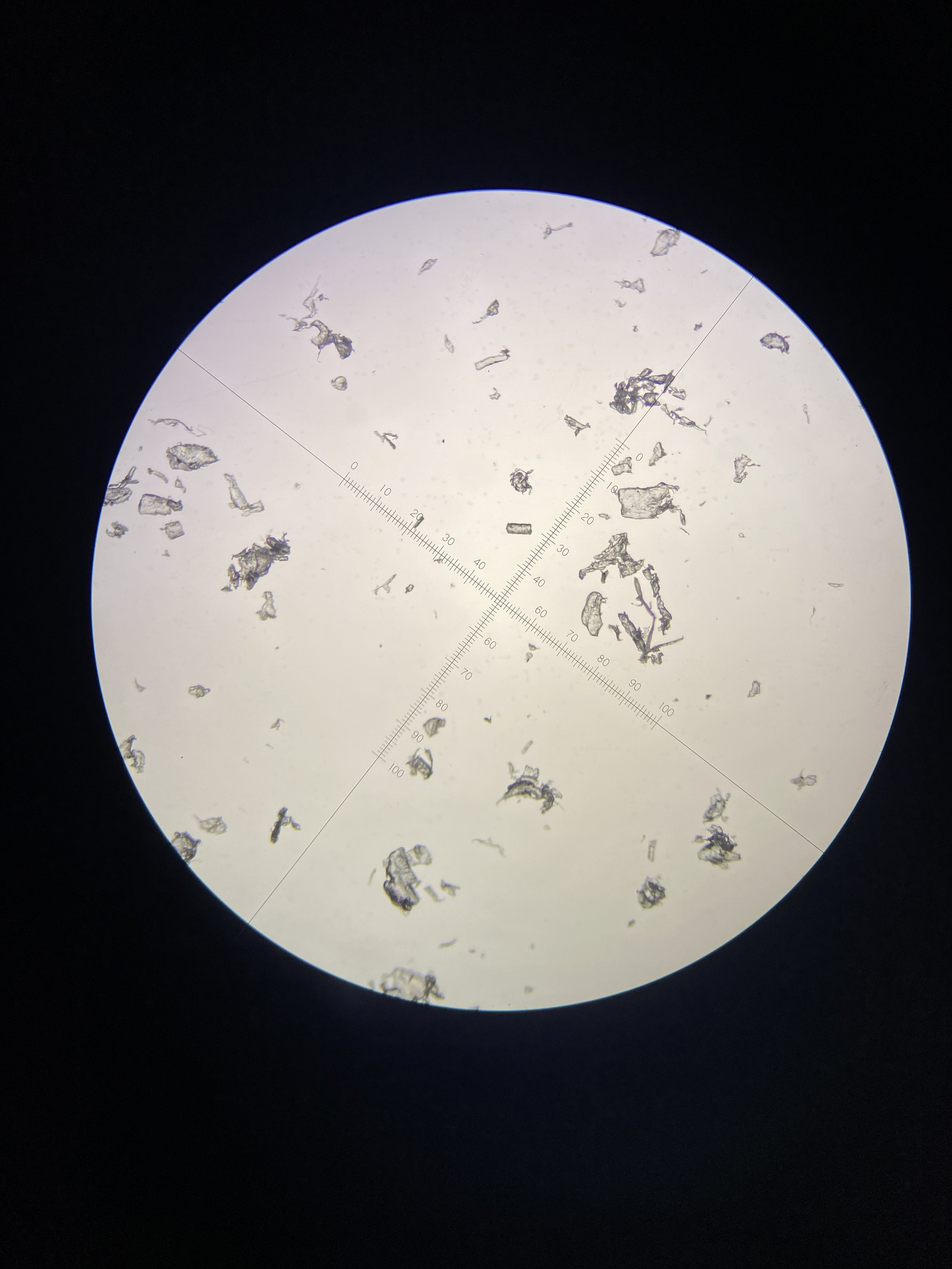microplastic: (606, 366, 714, 437), (280, 276, 358, 363), (617, 578, 689, 667), (362, 965, 455, 1015), (222, 532, 293, 593), (494, 760, 567, 815), (575, 529, 647, 584), (611, 482, 692, 527), (382, 844, 432, 915), (693, 824, 744, 871), (642, 562, 672, 637), (224, 472, 264, 517), (147, 416, 214, 441), (116, 733, 150, 778), (165, 444, 221, 471), (100, 467, 138, 505), (269, 806, 303, 845), (167, 830, 203, 866), (581, 589, 606, 638), (138, 491, 184, 517), (403, 747, 437, 781), (635, 876, 668, 911), (191, 811, 230, 838), (473, 345, 511, 371), (702, 790, 731, 824), (650, 228, 682, 258), (732, 453, 762, 485), (468, 300, 503, 324), (509, 466, 534, 497), (471, 838, 508, 858), (759, 332, 792, 354), (541, 221, 575, 242), (258, 590, 279, 624), (564, 413, 590, 439), (368, 572, 397, 595), (647, 439, 669, 469), (422, 717, 448, 740), (789, 770, 819, 789), (373, 428, 398, 450), (614, 278, 648, 294), (105, 521, 132, 541), (145, 464, 170, 485), (422, 883, 446, 904), (162, 520, 188, 539), (610, 456, 633, 477), (505, 522, 534, 538), (438, 878, 461, 898), (418, 255, 438, 277), (522, 642, 539, 663), (646, 839, 660, 864), (186, 684, 211, 698), (747, 679, 763, 699), (270, 716, 287, 734), (801, 401, 813, 426), (606, 623, 621, 642), (442, 334, 456, 354), (331, 375, 348, 391), (488, 386, 503, 403), (520, 738, 535, 754), (174, 477, 187, 494), (367, 869, 378, 888), (412, 517, 426, 529), (134, 679, 146, 693), (614, 297, 628, 308), (826, 582, 845, 589), (431, 556, 444, 566), (693, 322, 705, 332), (483, 714, 493, 725), (405, 584, 415, 595), (628, 917, 636, 929), (161, 550, 173, 558), (634, 453, 643, 463), (704, 693, 713, 702), (699, 499, 706, 508), (632, 323, 638, 333), (739, 532, 745, 539)
